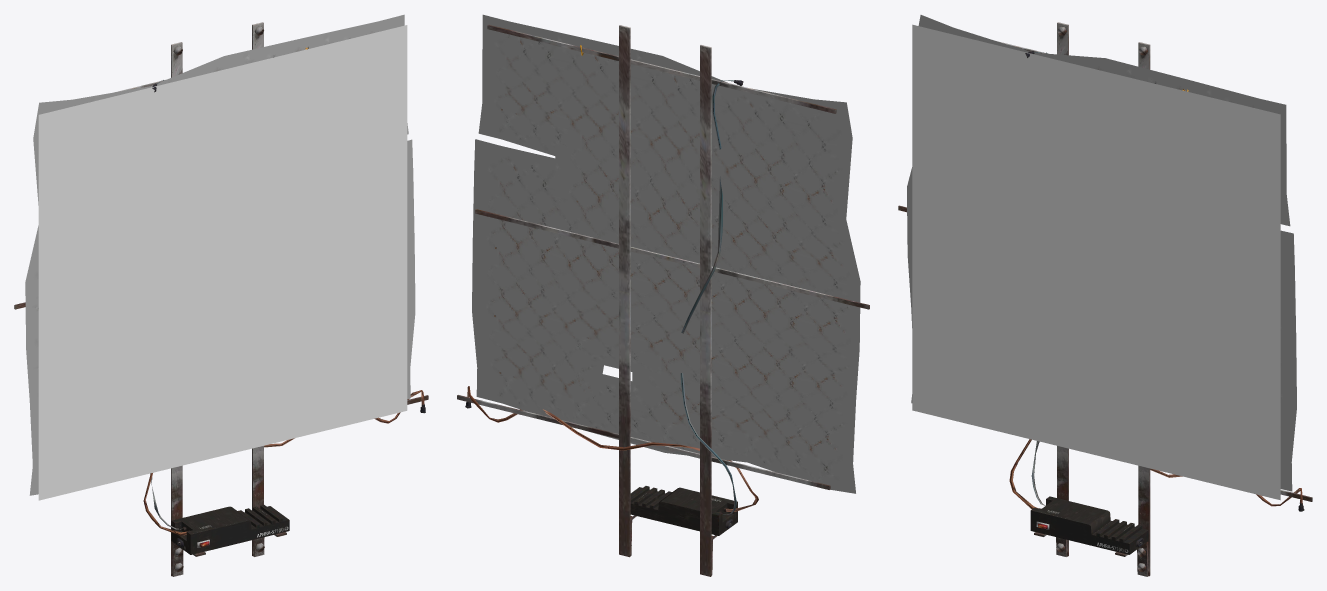
File: sign.neon.125x125.glb
The picture shows the model from 3 angles, left to right: view 1: azimuth 30°, elevation 25°; view 2: azimuth 150°, elevation 25°; view 3: azimuth 330°, elevation 25°; orthographic projection.
Parts seen in each view (by area): view 1: sign.neonsign.125x125_LOD0; view 2: sign.neonsign.125x125_LOD0; view 3: sign.neonsign.125x125_LOD0.
Part boxes in pixels (x1,y1,x2,y2): sign.neonsign.125x125_LOD0: (14,14,428,576); sign.neonsign.125x125_LOD0: (457,14,869,576); sign.neonsign.125x125_LOD0: (898,15,1312,576).
Bounding box in the file's own units: 1.4 × 1.72 × 0.1607.
3 materials, 2 textured.
